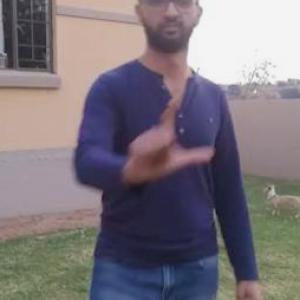land_hand: (121, 82, 218, 186)
